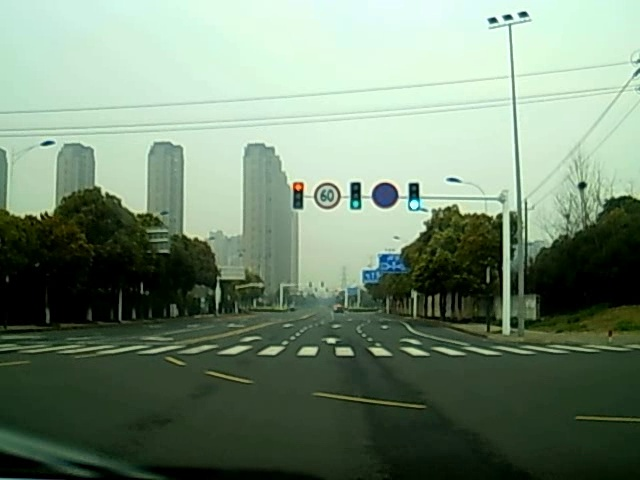Traffic_Light_go: (350, 181, 363, 211), (407, 184, 420, 213)
Traffic_Light_stop: (290, 182, 303, 214)
